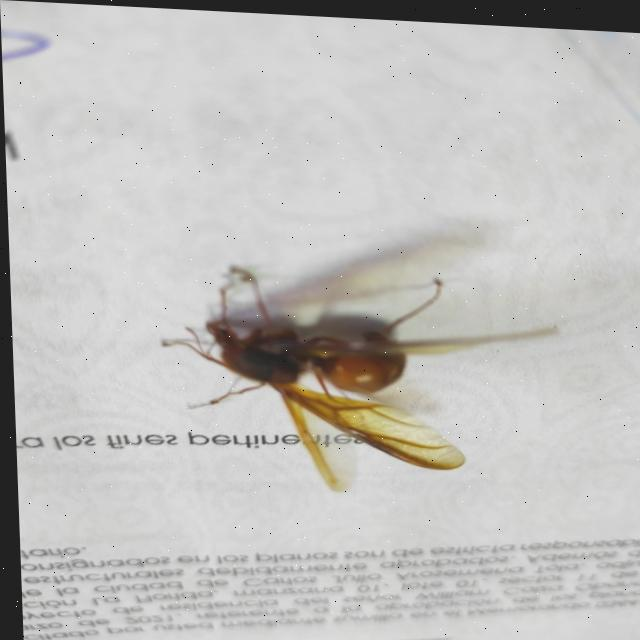Alive-Male-Alate: (157, 260, 561, 498)
